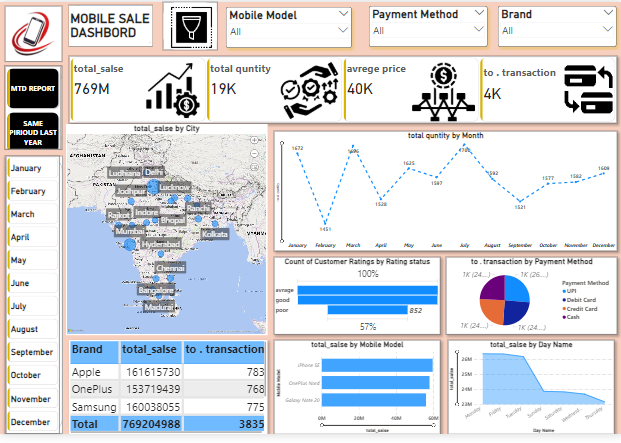

What the dashboard file says about the page in this screenshot:
{"tool":"powerbi","page":{"name":"DASHABORD","canvas":[2600,1800],"ordinal":0},"visuals":[{"type":"image","box":[19.8,15.6,238.1,232.4],"z":0},{"type":"shape","box":[20.6,267.6,238.2,347.1],"z":1000},{"type":"shape","box":[20,643.3,240,1156.7],"z":2000},{"type":"advancedSlicerVisual","title":" MONNTH","fields":{"Values":["custom calender.date.Variation.Date Hierarchy.Month"]},"box":[26.7,643.3,223.3,1156.7],"z":3000},{"type":"cardVisual","fields":{"Data":["mobile salse data.total_salse","mobile salse data.total quntity","mobile salse data.avrege price","mobile salse data.total transaction"]},"box":[286.7,226.7,2283.3,280],"z":4000},{"type":"slicer","fields":{"Values":["mobile salse data.Mobile Model"]},"box":[943.3,20,523.3,170],"z":5000},{"type":"slicer","fields":{"Values":["mobile salse data.Payment Method"]},"box":[1536.7,16.7,493.3,170],"z":6000},{"type":"slicer","fields":{"Values":["mobile salse data.Brand"]},"box":[2076.7,16.7,493.3,170],"z":7000},{"type":"shape","box":[680,0,226.7,200],"z":8000},{"type":"image","box":[686.7,13.3,220,186.7],"z":9000},{"type":"shape","box":[286.7,13.3,346.7,173.3],"z":10000},{"type":"textbox","title":"MOBILE SALE                            DASHBORD","box":[286.7,16.7,346.7,166.7],"z":11000},{"type":"lineChart","fields":{"Category":["custom calender.date.Variation.Date Hierarchy.Month","custom calender.date.Variation.Date Hierarchy.Day"],"Y":["mobile salse data.total quntity"]},"box":[1140,536.7,1430,500],"z":12000},{"type":"funnel","fields":{"Y":["CountNonNull(mobile salse data.Customer Ratings)"],"Category":["mobile salse data.Rating status"]},"box":[1140,1063.3,693.3,323.3],"z":13000},{"type":"pieChart","fields":{"Y":["mobile salse data.to . transaction"],"Category":["mobile salse data.Payment Method"]},"box":[1856.7,1063.3,713.3,323.3],"z":14000},{"type":"clusteredBarChart","fields":{"Y":["mobile salse data.total_salse"],"Category":["mobile salse data.Mobile Model"]},"box":[1140,1406.7,693.3,393.3],"z":15000},{"type":"stackedAreaChart","fields":{"Category":["custom calender.Day Name"],"Y":["mobile salse data.total_salse"]},"box":[1866.7,1406.7,693.3,393.3],"z":16000},{"type":"tableEx","fields":{"Values":["mobile salse data.Brand","mobile salse data.total_salse","mobile salse data.to . transaction"]},"box":[286.7,1406.7,826.7,393.3],"z":17000},{"type":"pageNavigator","box":[20,268,233.3,346.7],"z":18000},{"type":"map","fields":{"Category":["mobile salse data.City"],"Size":["mobile salse data.total_salse"]},"box":[273.3,506.7,840,880],"z":19000}]}

Visuals, with their boxes in screenshot pixels (x1, y1, x2, y2), scaled from the page's 2600x1800 canvas onto the 621x443 screenshot:
image: bbox(5, 4, 62, 61)
shape: bbox(5, 66, 62, 151)
shape: bbox(5, 158, 62, 442)
" MONNTH" advancedSlicerVisual: bbox(6, 158, 60, 442)
cardVisual - mobile salse data.total_salse x mobile salse data.total quntity: bbox(68, 56, 614, 125)
slicer - mobile salse data.Mobile Model: bbox(225, 5, 350, 47)
slicer - mobile salse data.Payment Method: bbox(367, 4, 485, 46)
slicer - mobile salse data.Brand: bbox(496, 4, 614, 46)
shape: bbox(162, 0, 217, 49)
image: bbox(164, 3, 217, 49)
shape: bbox(68, 3, 151, 46)
"MOBILE SALE                            DASHBORD" textbox: bbox(68, 4, 151, 45)
lineChart - custom calender.date.Variation.Date Hierarchy.Month x custom calender.date.Variation.Date Hierarchy.Day: bbox(272, 132, 614, 255)
funnel - CountNonNull(mobile salse data.Customer Ratings) x mobile salse data.Rating status: bbox(272, 262, 438, 341)
pieChart - mobile salse data.to . transaction x mobile salse data.Payment Method: bbox(443, 262, 614, 341)
clusteredBarChart - mobile salse data.total_salse x mobile salse data.Mobile Model: bbox(272, 346, 438, 442)
stackedAreaChart - custom calender.Day Name x mobile salse data.total_salse: bbox(446, 346, 611, 442)
tableEx - mobile salse data.Brand x mobile salse data.total_salse: bbox(68, 346, 266, 442)
pageNavigator: bbox(5, 66, 60, 151)
map - mobile salse data.City x mobile salse data.total_salse: bbox(65, 125, 266, 341)
